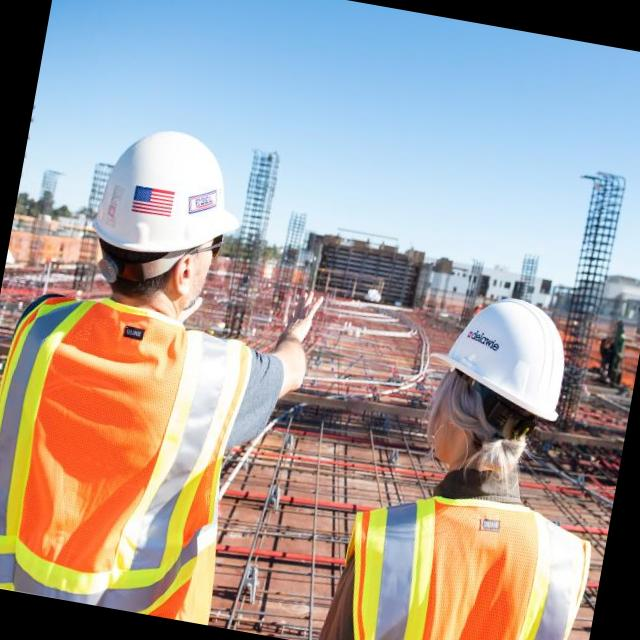Helmet: (96, 95, 266, 271), (431, 268, 585, 434)
Vest: (0, 248, 256, 623), (330, 480, 591, 640)
